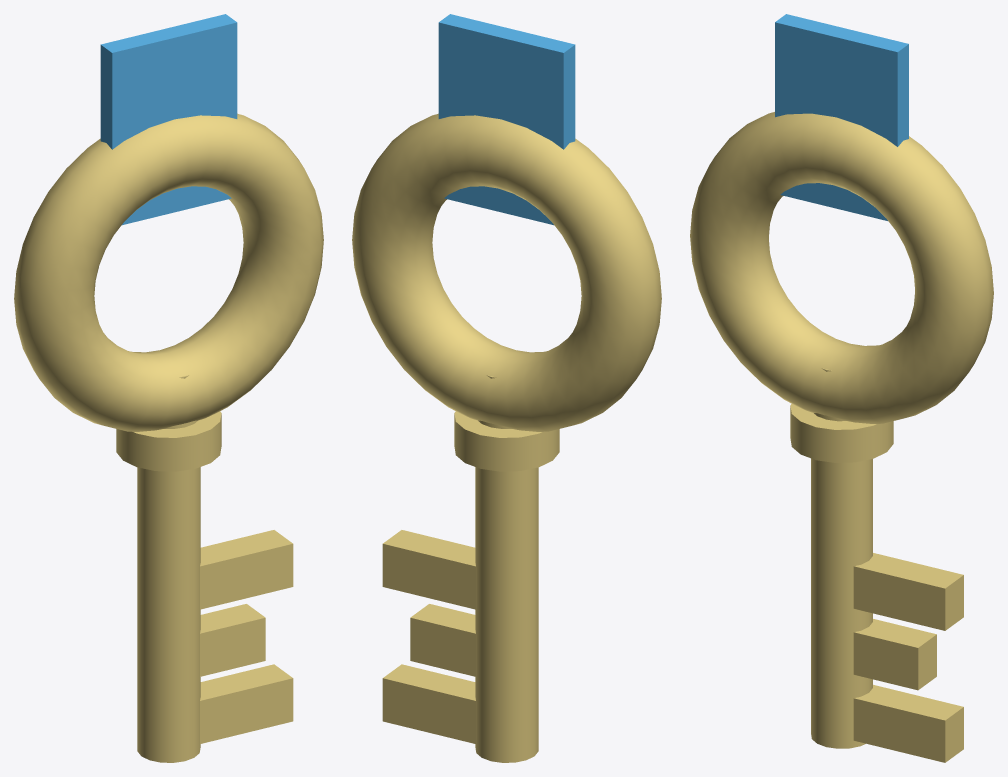
Rendered from kunci_loker.glb.
The picture shows the model from 3 angles, left to right: view 1: azimuth 30°, elevation 25°; view 2: azimuth 150°, elevation 25°; view 3: azimuth 330°, elevation 25°; orthographic projection.
Parts seen in each view (by area): view 1: kunci_loker_Mesh; view 2: kunci_loker_Mesh; view 3: kunci_loker_Mesh.
Boxes of the visible parts, x1,y1,x2,y2 form: kunci_loker_Mesh: (14,14,323,762); kunci_loker_Mesh: (352,14,661,762); kunci_loker_Mesh: (690,14,993,762).
Bounding box in the file's own units: 0.1793 × 0.41 × 0.055.
